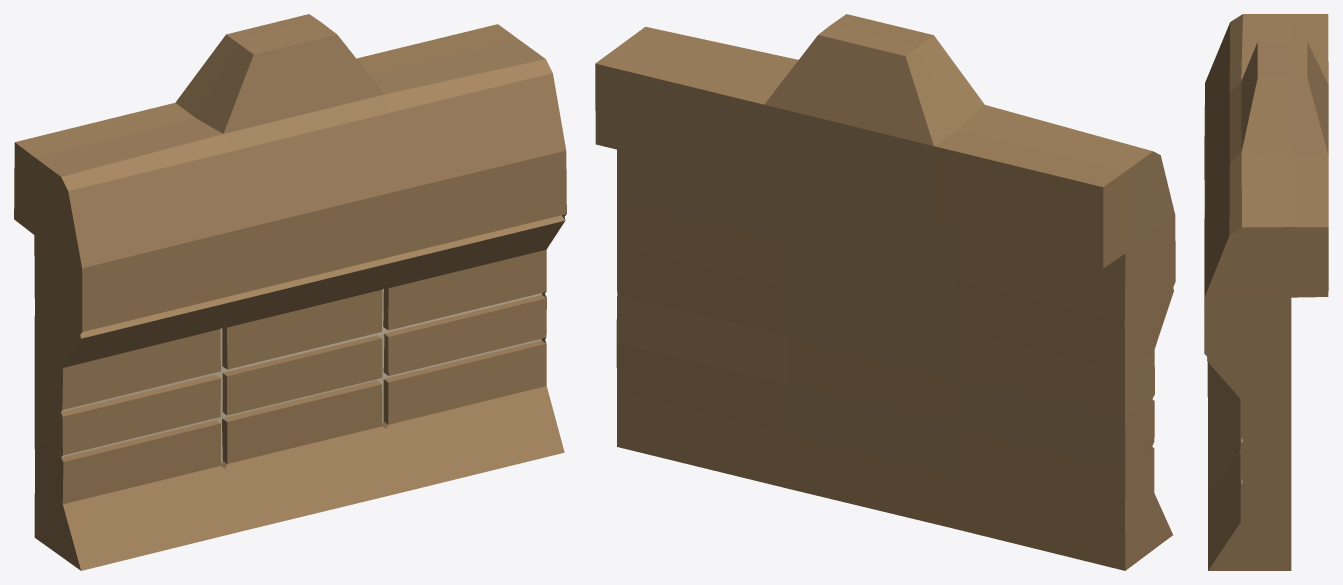
Rendered from GlyphRaider_Wall.glb.
The picture shows the model from 3 angles, left to right: view 1: azimuth 30°, elevation 25°; view 2: azimuth 150°, elevation 25°; view 3: azimuth 270°, elevation 25°; orthographic projection. The views are drawn at different scales.
Visible parts, largest first — view 1: Wall-col; view 2: Wall-col; view 3: Wall-col.
Part boxes in pixels (<box>): Wall-col: <box>14,14,566,570</box>; Wall-col: <box>595,14,1175,570</box>; Wall-col: <box>1204,14,1328,570</box>.
Size of the model in its own units: 12.03 by 10.62 by 2.96.
